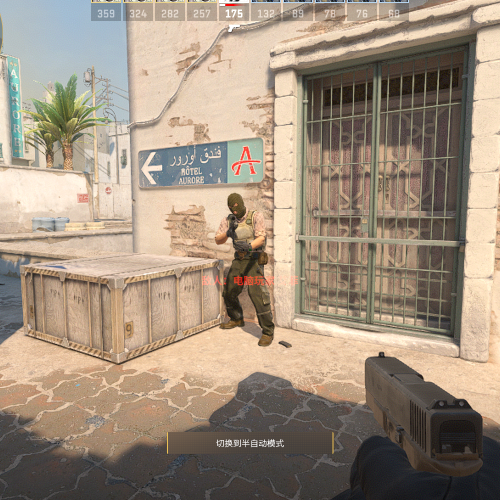t_body: (217, 191, 276, 347)
t_head: (227, 191, 247, 219)
